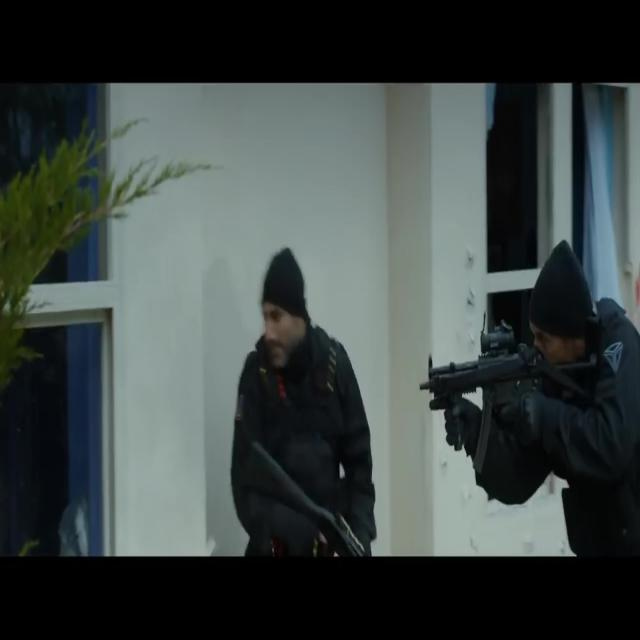Weapon: (403, 325, 620, 481), (208, 418, 395, 571)
